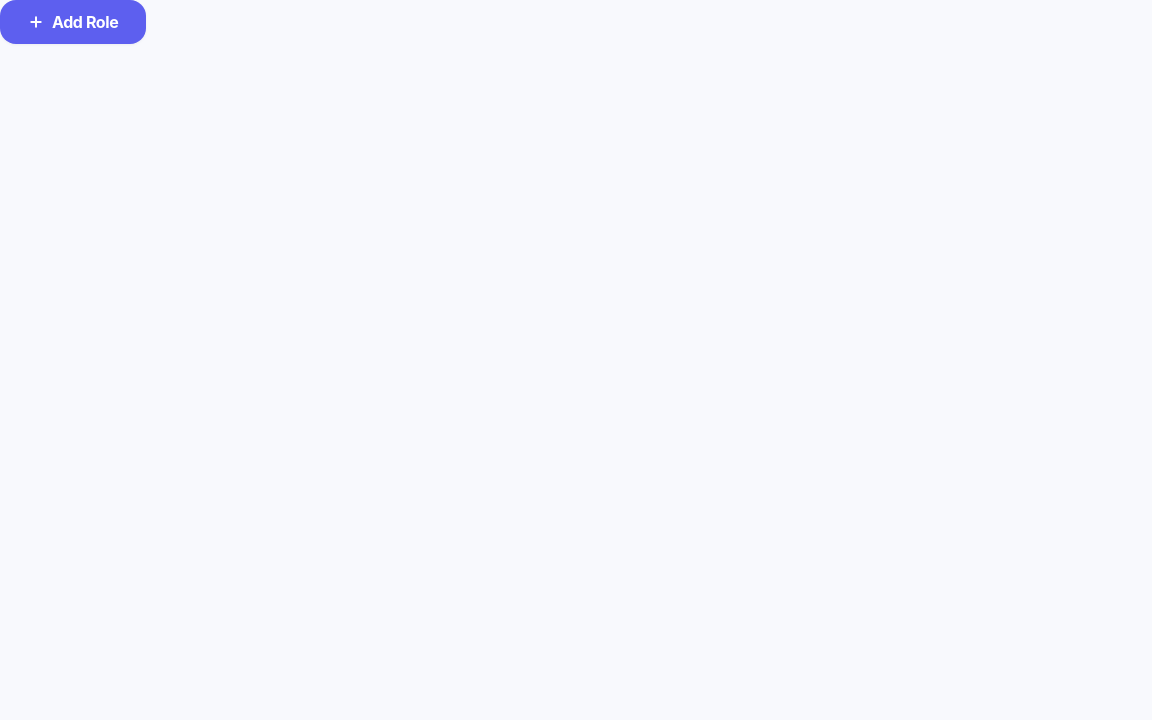
Test: AddSpecializationModal › doit afficher une erreur si le salaire est vide
Ouvrir la modal
Click the button "Add Role" at (73, 22), box [0,0,146,44]
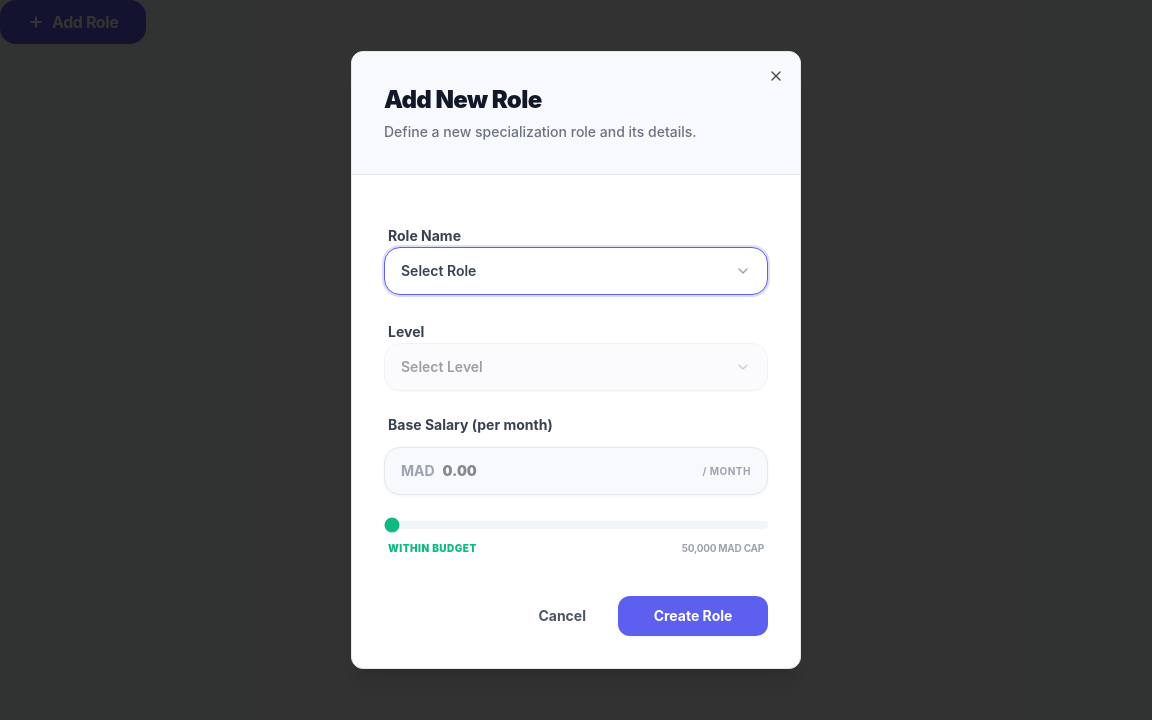
Sélectionner le Rôle
Click the dropdown labelled "Select Role" at (439, 270), box [384,247,768,295]
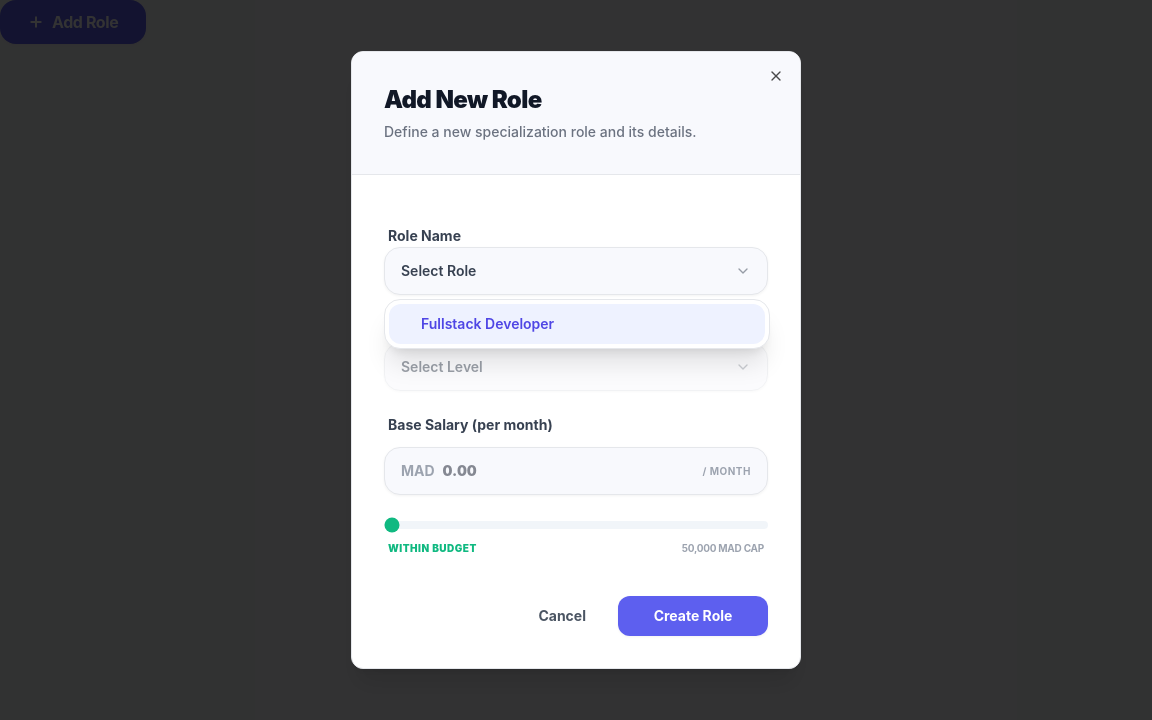
Click the option "Fullstack Developer" at (488, 324), box [389,304,765,344]
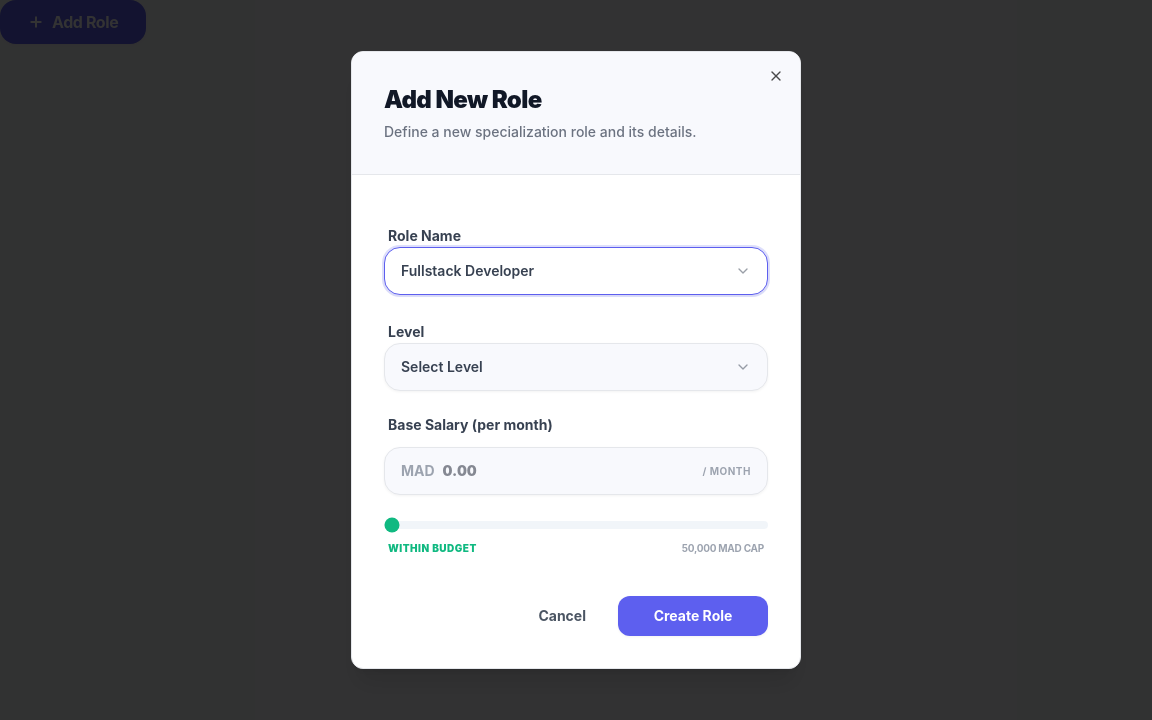
Expected: the dropdown labelled "Select Level" is enabled
Click the dropdown labelled "Select Level" at (442, 366), box [384,343,768,391]
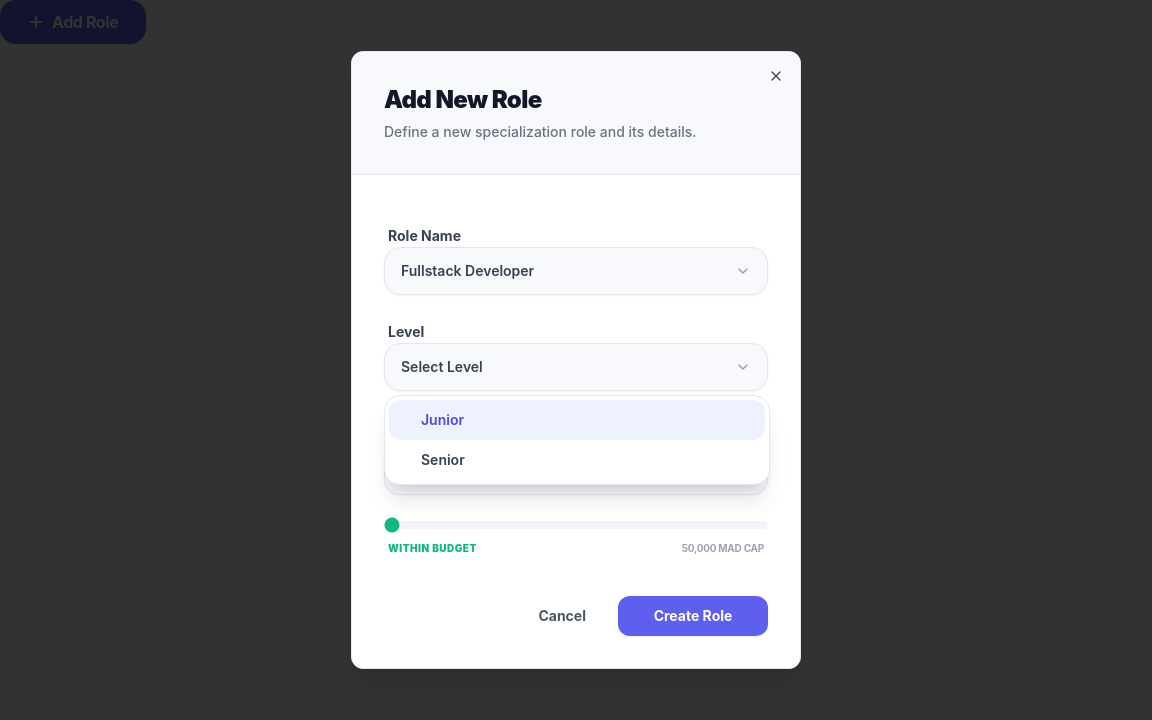
Click the option "Junior" at (442, 420), box [389,400,765,440]
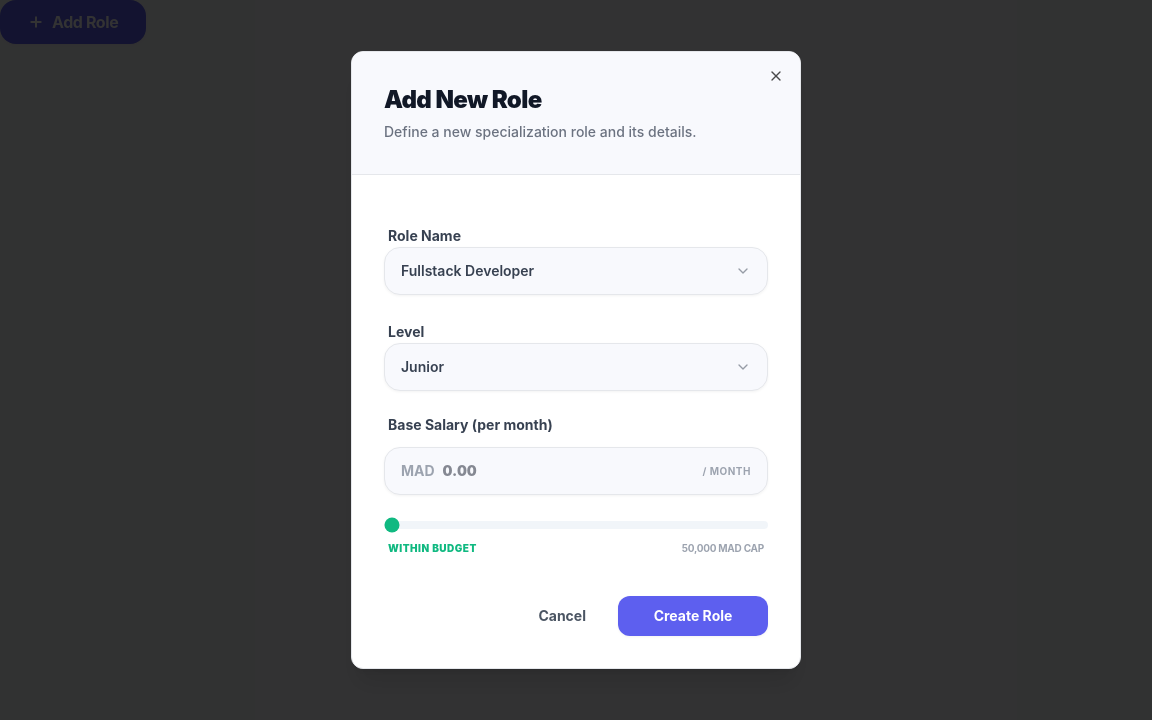
Click the button "Create Role" at (693, 616), box [618,596,768,636]
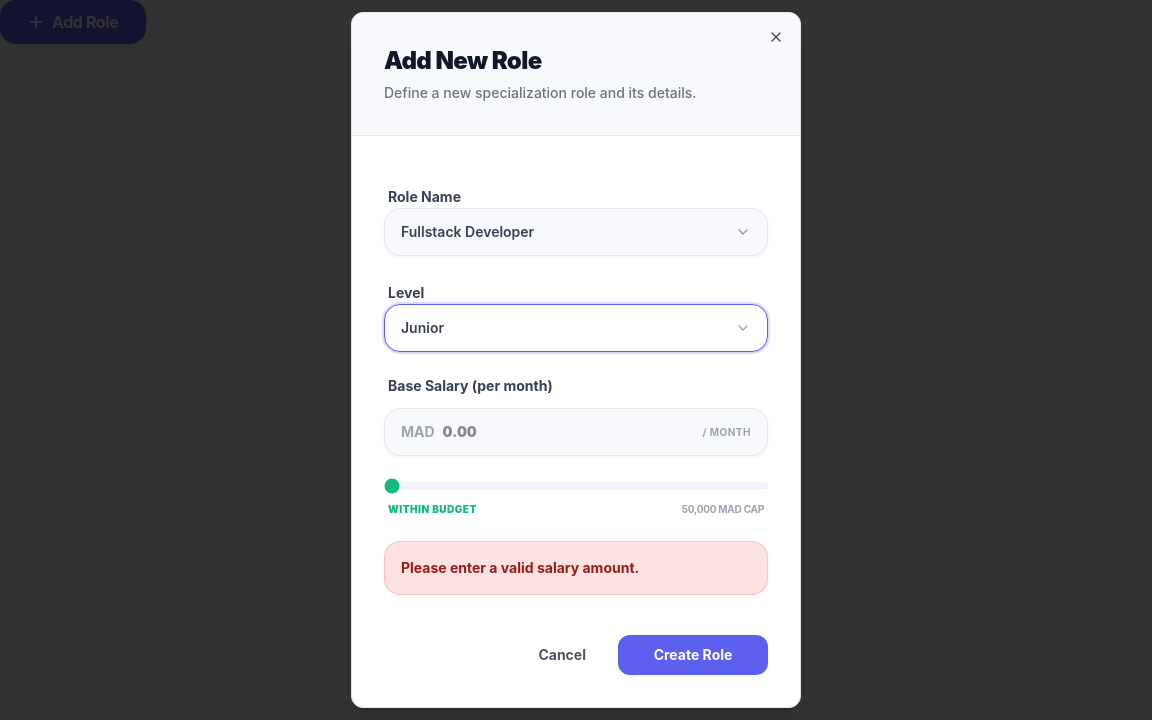
Expected: the text "Please enter a valid salary amount." is shown, [384,541,768,595]
